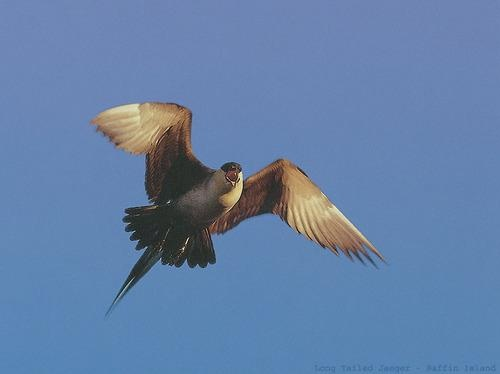bird: (88, 103, 384, 313)
